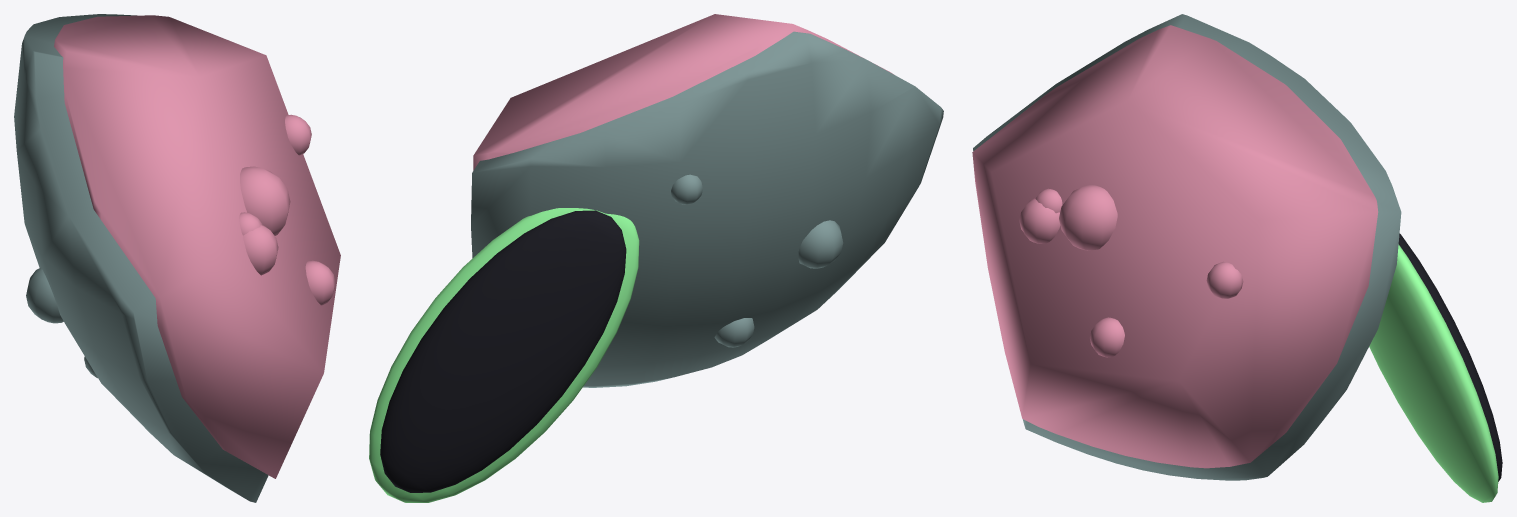
The model's file is chunk0.glb.
3 views of the same model, side by side, from view 1: azimuth 30°, elevation 25°; view 2: azimuth 150°, elevation 25°; view 3: azimuth 270°, elevation 25° (orthographic). The views are drawn at different scales.
Parts seen in each view (by area): view 1: flesh, skin; view 2: skin, eye, flesh, glow; view 3: flesh, skin, glow, eye.
Boxes of the visible parts, x1,y1,x2,y2 form: flesh: [54, 15, 340, 478]; skin: [14, 14, 268, 502]; skin: [471, 31, 943, 387]; eye: [380, 210, 626, 492]; flesh: [473, 14, 893, 170]; glow: [369, 208, 639, 502]; flesh: [972, 25, 1378, 468]; skin: [973, 14, 1401, 480]; glow: [1369, 244, 1498, 502]; eye: [1398, 233, 1502, 481].
Bounding box in the file's own units: 1.05 × 1.29 × 1.63.
